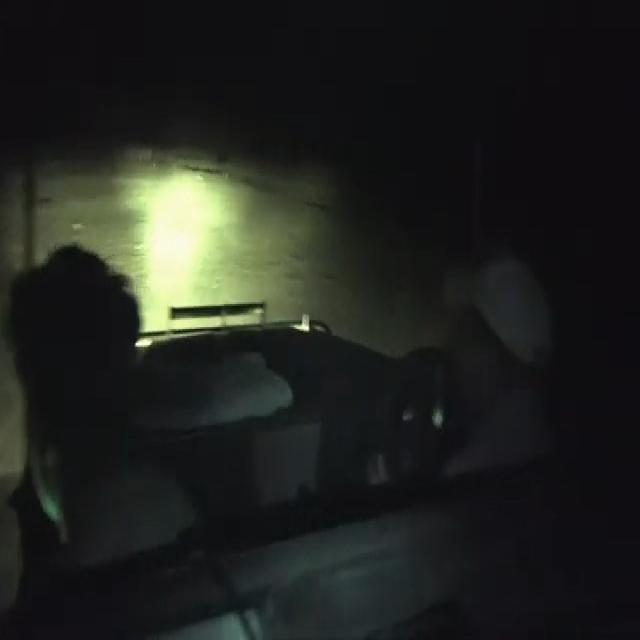human: (4, 212, 219, 594), (415, 187, 590, 536)
